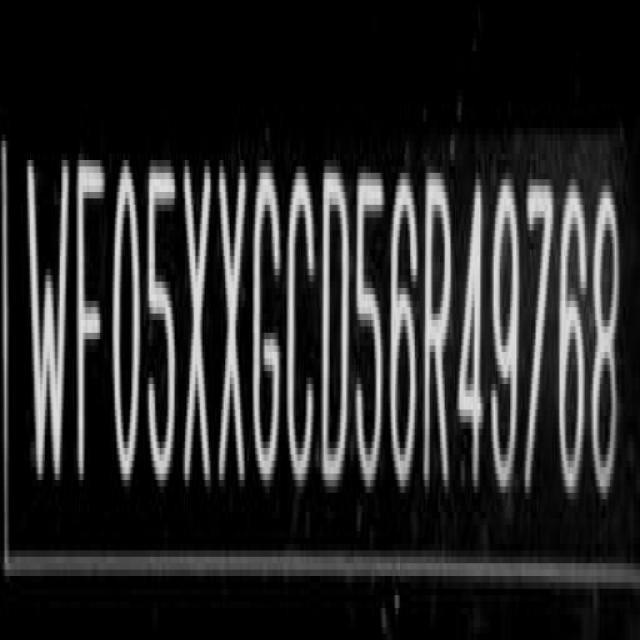0: (111, 156, 143, 501)
4: (455, 169, 484, 502)
5: (144, 156, 177, 498), (354, 170, 386, 498)
6: (389, 167, 422, 500), (558, 184, 590, 506)
7: (524, 172, 555, 502)
8: (594, 185, 624, 507)
9: (490, 177, 524, 501)
C: (286, 169, 320, 496)
D: (321, 164, 352, 496)
F: (73, 142, 108, 496)
G: (252, 164, 282, 491)
R: (423, 159, 455, 500)
W: (26, 147, 69, 501)
X: (181, 152, 215, 500), (214, 162, 248, 497)
